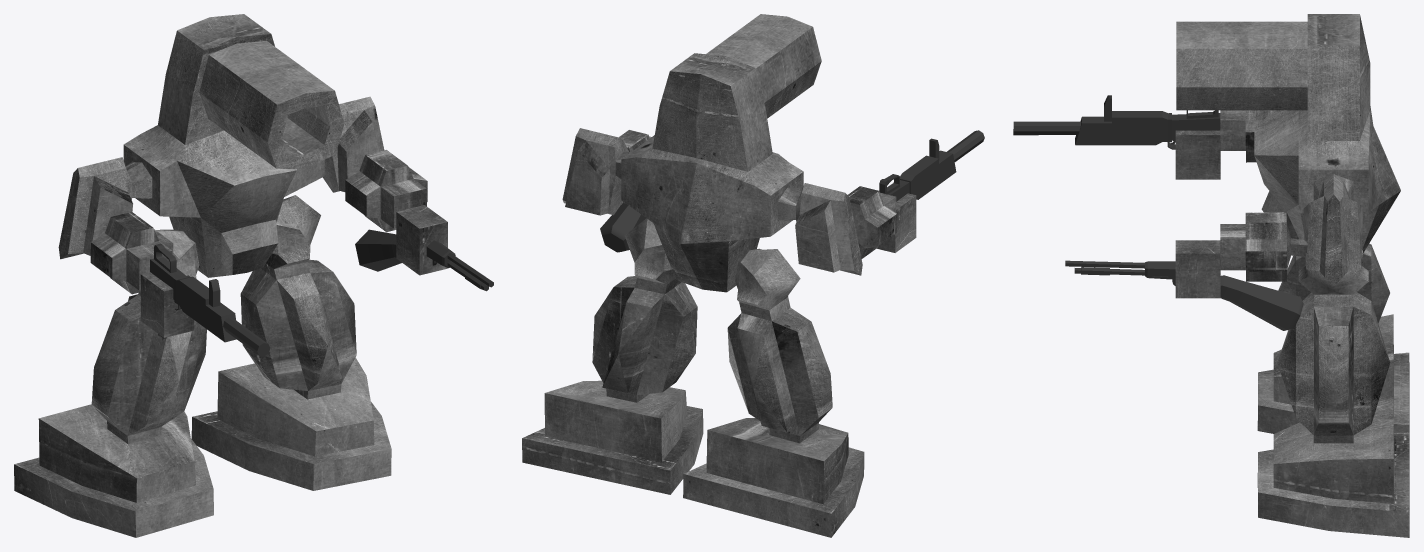
File: bossenemy.fbx
3 renders of one model, left to right at view 1: azimuth 30°, elevation 25°; view 2: azimuth 150°, elevation 25°; view 3: azimuth 270°, elevation 25°, orthographic. The views are drawn at different scales.
Parts seen in each view (by area): view 1: polySurface1, polySurface3, polySurface2; view 2: polySurface1, polySurface3, polySurface2; view 3: polySurface1, polySurface3, polySurface2.
Part boxes in pixels (x1,y1,x2,y2): polySurface1: (14, 14, 447, 537); polySurface3: (150, 243, 270, 356); polySurface2: (355, 229, 493, 291); polySurface1: (522, 14, 916, 537); polySurface3: (879, 130, 984, 201); polySurface2: (600, 203, 646, 252); polySurface1: (1175, 14, 1409, 537); polySurface3: (1013, 95, 1220, 149); polySurface2: (1065, 260, 1303, 330).
Bounding box in the file's own units: 17.04 × 21.53 × 17.82.
2 materials, 1 textured.
